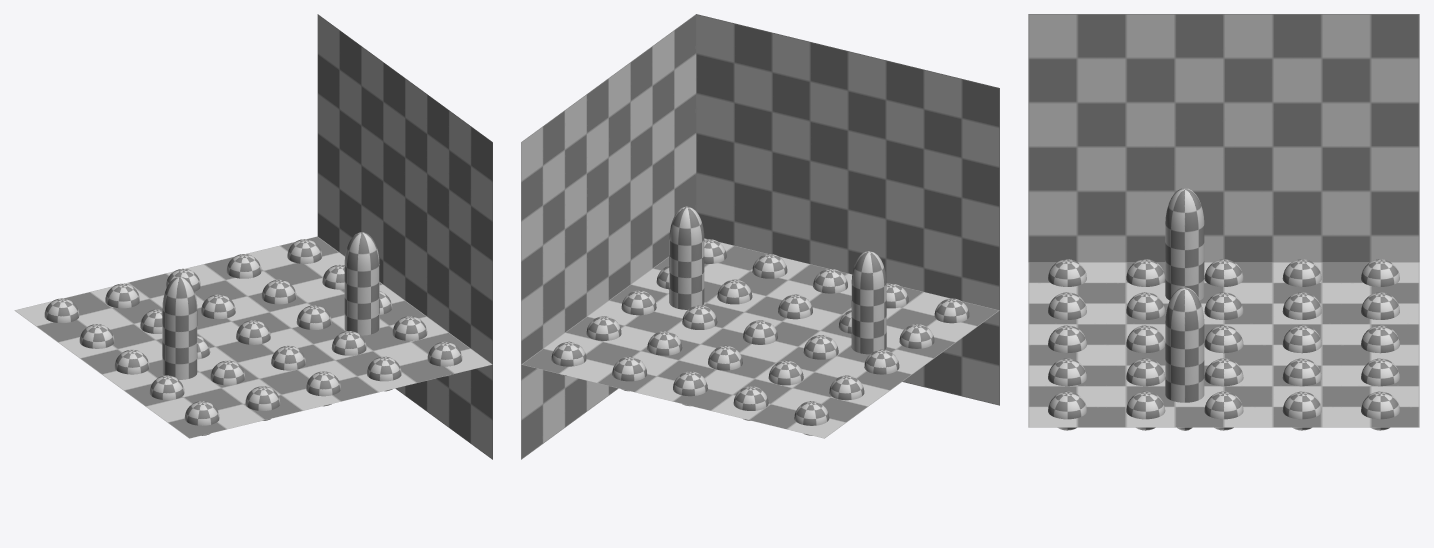
3 renders of one model, left to right at view 1: azimuth 30°, elevation 25°; view 2: azimuth 150°, elevation 25°; view 3: azimuth 270°, elevation 25°, orthographic. The views are drawn at different scales.
Parts seen in each view (by area): view 1: Plane (3), Plane, Capsule (1), Capsule, Sphere (20), Sphere (22), Sphere (24), Sphere (23), Sphere (21), Sphere (12), Sphere (2), Sphere (6) (+12 smaller); view 2: Plane (1), Plane (3), Plane, Capsule, Capsule (1), Sphere (12), Sphere (10), Sphere (14), Sphere (13), Sphere (11), Sphere (22), Sphere (8) (+14 smaller); view 3: Plane (2), Plane, Capsule, Capsule (1), Sphere (5), Sphere (15), Sphere (4), Sphere (24), Sphere (14), Sphere (2), Sphere (3), Sphere (9) (+17 smaller).
Boxes of the visible parts, x1,y1,x2,y2 form: Plane (3): [317, 14, 492, 459]; Plane: [14, 236, 492, 438]; Capsule (1): [162, 276, 197, 379]; Capsule: [344, 232, 379, 335]; Sphere (20): [306, 371, 340, 406]; Sphere (22): [184, 401, 219, 435]; Sphere (24): [427, 341, 462, 376]; Sphere (23): [367, 356, 401, 391]; Sphere (21): [245, 386, 280, 420]; Sphere (12): [44, 298, 79, 323]; Sphere (2): [114, 349, 149, 374]; Sphere (6): [261, 279, 296, 304]; Plane (1): [696, 14, 999, 405]; Plane (3): [521, 14, 696, 459]; Plane: [521, 238, 999, 438]; Capsule: [669, 206, 704, 309]; Capsule (1): [851, 251, 886, 354]; Sphere (12): [794, 401, 829, 435]; Sphere (10): [673, 371, 707, 406]; Sphere (14): [551, 341, 586, 376]; Sphere (13): [612, 356, 646, 391]; Sphere (11): [733, 386, 768, 420]; Sphere (22): [934, 298, 969, 323]; Sphere (8): [768, 360, 803, 385]; Plane (2): [1028, 14, 1419, 262]; Plane: [1028, 262, 1419, 427]; Capsule: [1165, 287, 1204, 430]; Capsule (1): [1165, 188, 1204, 300]; Sphere (5): [1282, 391, 1321, 430]; Sphere (15): [1126, 391, 1165, 430]; Sphere (4): [1204, 391, 1243, 430]; Sphere (24): [1048, 391, 1086, 430]; Sphere (14): [1361, 391, 1399, 430]; Sphere (2): [1204, 259, 1243, 286]; Sphere (3): [1204, 358, 1243, 386]; Sphere (9): [1282, 325, 1321, 353].
Bounding box in the file's own units: 10 × 10 × 10.
Materials: 2 (2 with a texture image).
